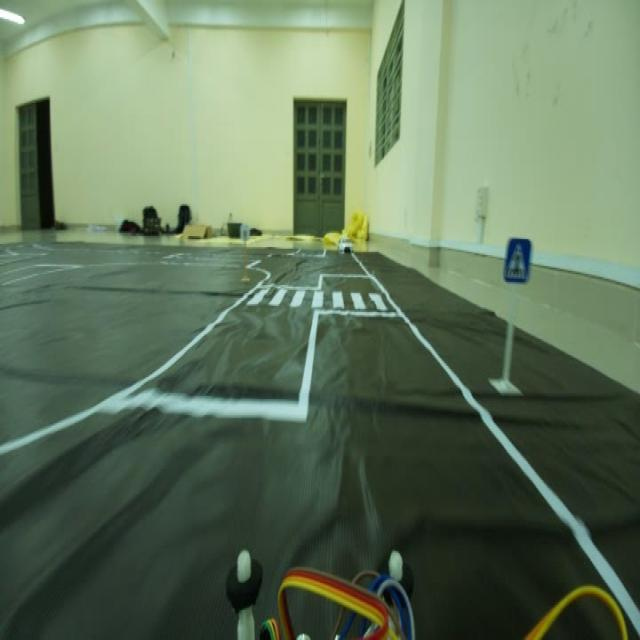crosswalk: (496, 225, 537, 293)
